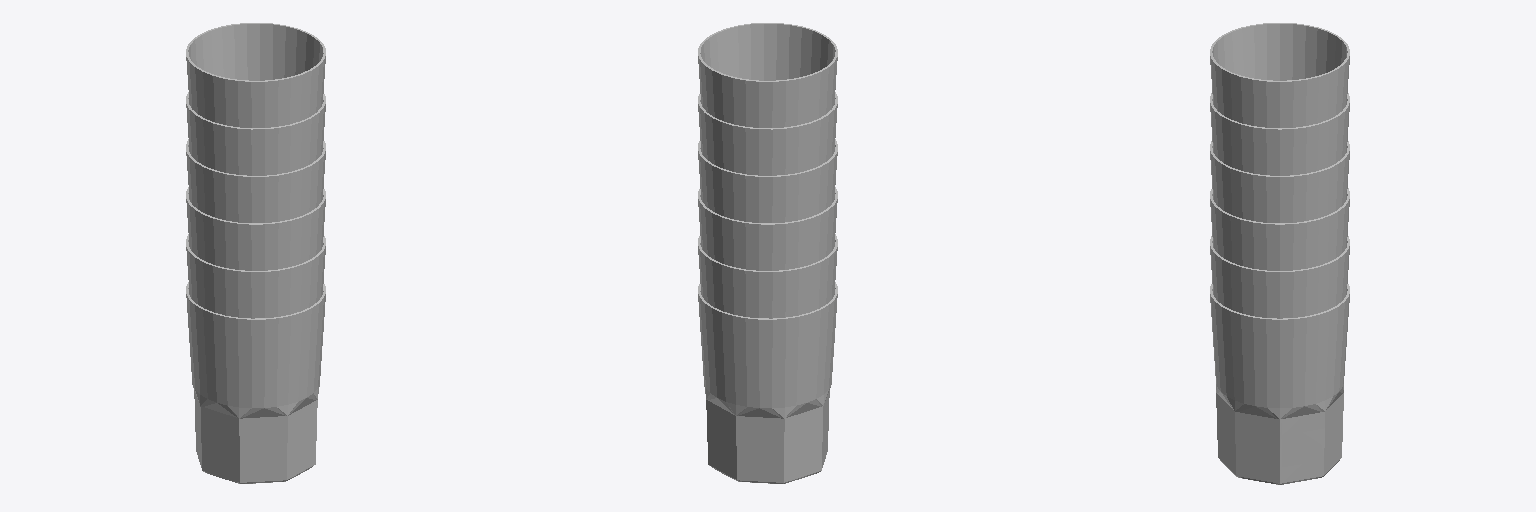
File: GlassCaipirinha.obj
3 views of the same model, side by side, from view 1: azimuth 30°, elevation 25°; view 2: azimuth 150°, elevation 25°; view 3: azimuth 270°, elevation 25° (orthographic).
Parts seen in each view (by area): view 1: CaipirinhaGlass; view 2: CaipirinhaGlass; view 3: CaipirinhaGlass.
Part boxes in pixels (x1,y1,x2,y2): CaipirinhaGlass: (186, 23, 325, 483); CaipirinhaGlass: (698, 23, 837, 483); CaipirinhaGlass: (1210, 23, 1349, 484).
Bounding box in the file's own units: 0.0891 × 0.2849 × 0.0891.